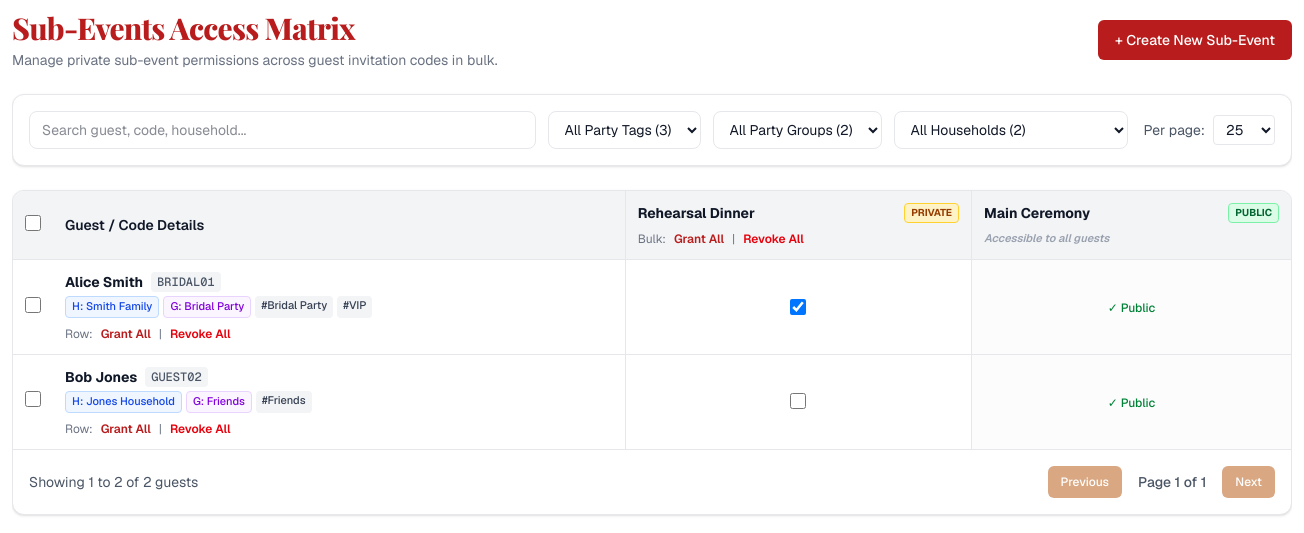
SubEventsMatrixPage › filters guests by selected party tag
Expected: the text "Alice Smith" is shown, left=65, top=272, right=143, bottom=292
Select "Tag: Bridal Party" in the dropdown named "Filter by Party Tag" at {"x": 624, "y": 130}, box left=548, top=111, right=701, bottom=149
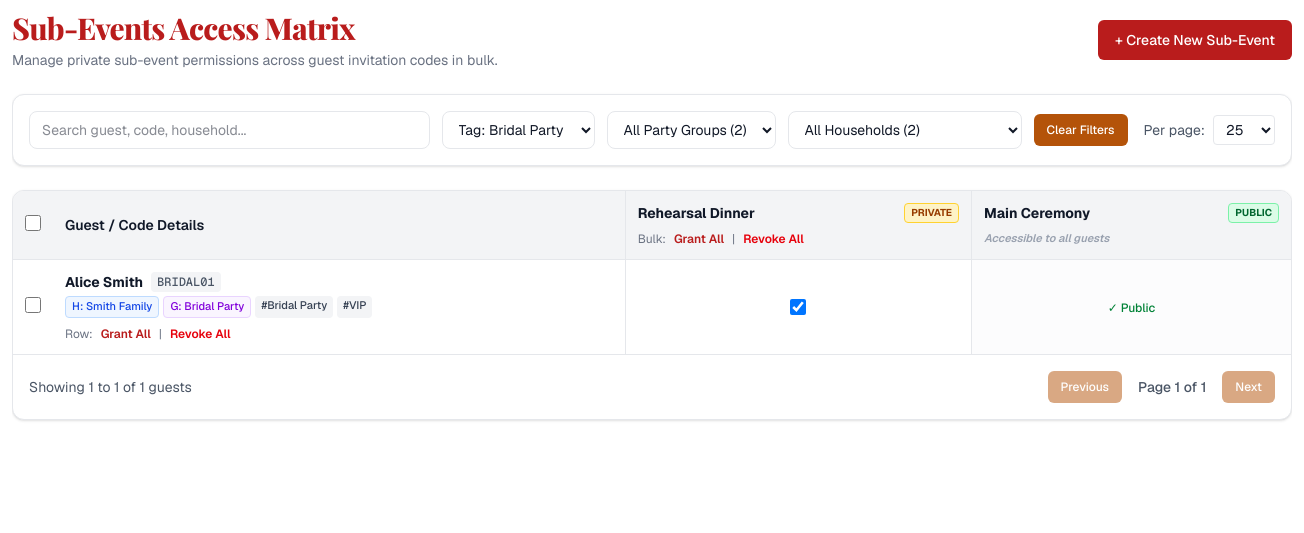
Expected: the text "Alice Smith" is shown, left=65, top=272, right=143, bottom=292
Now the text "Bob Jones" is gone
